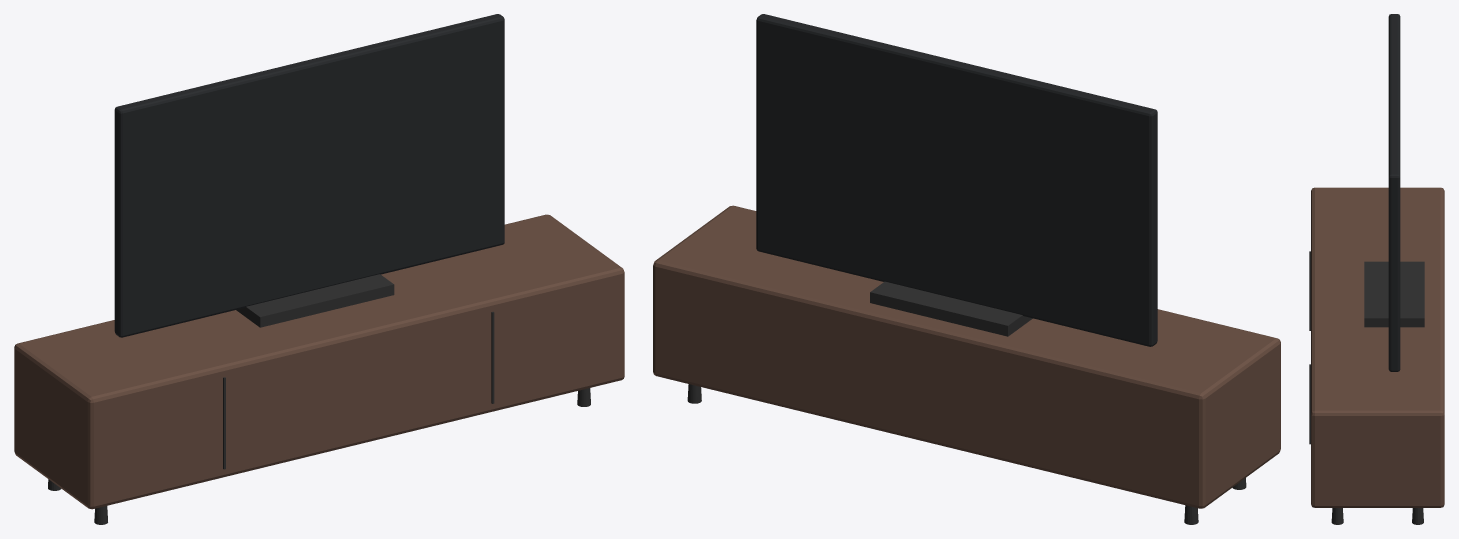
The model's file is mediaConsole.glb.
3 views of the same model, side by side, from view 1: azimuth 30°, elevation 25°; view 2: azimuth 150°, elevation 25°; view 3: azimuth 270°, elevation 25° (orthographic). The views are drawn at different scales.
Visible parts, largest first — view 1: body, tvScreen, tvStand; view 2: tvScreen, body, tvStand; view 3: body, tvScreen, tvStand, leg11.002, leg1-1.002.
Boxes of the visible parts, left/top/right/bottom form: body: left=14, top=214, right=624, bottom=509; tvScreen: left=114, top=14, right=504, bottom=337; tvStand: left=236, top=274, right=394, bottom=327; tvScreen: left=756, top=14, right=1157, bottom=346; body: left=653, top=205, right=1280, bottom=508; tvStand: left=870, top=281, right=1032, bottom=336; body: left=1311, top=187, right=1444, bottom=507; tvScreen: left=1388, top=14, right=1400, bottom=371; tvStand: left=1364, top=261, right=1424, bottom=327; leg11.002: left=1412, top=508, right=1423, bottom=524; leg1-1.002: left=1331, top=508, right=1343, bottom=524.
Size of the model in its own units: 1.6 by 1.07 by 0.405.
